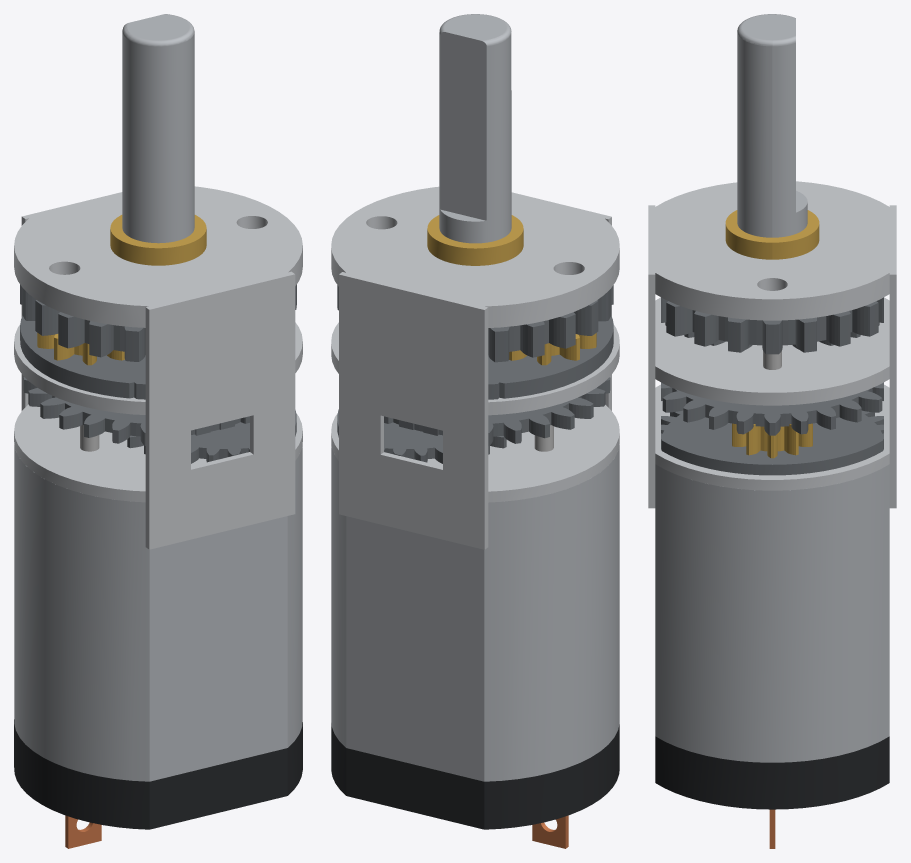
Rendered from n20-gearmotor.glb.
3 views of the same model, side by side, from view 1: azimuth 30°, elevation 25°; view 2: azimuth 150°, elevation 25°; view 3: azimuth 270°, elevation 25° (orthographic). The views are drawn at different scales.
Parts seen in each view (by area): view 1: can, gb_clamps, gb_plates, shaft, endcap, gear_6, gear_8, gear_4, bushing, gear_2, gear_7, term_neg; view 2: can, gb_clamps, gb_plates, shaft, endcap, gear_6, gear_8, gear_4, bushing, gear_2, gear_7, term_neg; view 3: can, gb_plates, shaft, endcap, gear_2, gear_8, gear_4, gb_clamps, bushing, gear_3.
Part boxes in pixels (<box>): can: <box>14,444,302,781</box>; gb_clamps: <box>21,192,295,549</box>; gb_plates: <box>14,186,302,502</box>; shaft: <box>122,14,194,243</box>; endcap: <box>14,719,302,829</box>; gear_6: <box>20,315,145,399</box>; gear_8: <box>20,284,296,361</box>; gear_4: <box>23,377,249,445</box>; bushing: <box>110,215,206,265</box>; gear_2: <box>127,410,296,463</box>; gear_7: <box>37,333,124,365</box>; term_neg: <box>65,815,101,848</box>; can: <box>331,444,619,781</box>; gb_clamps: <box>339,192,611,549</box>; gb_plates: <box>331,186,619,502</box>; shaft: <box>439,14,511,243</box>; endcap: <box>331,723,619,829</box>; gear_6: <box>488,316,613,399</box>; gear_8: <box>337,285,613,362</box>; gear_4: <box>384,377,610,446</box>; bushing: <box>427,215,523,265</box>; gear_2: <box>337,409,506,463</box>; gear_7: <box>509,333,596,365</box>; term_neg: <box>532,815,568,848</box>; can: <box>655,464,889,762</box>; gb_plates: <box>655,181,889,490</box>; shaft: <box>737,14,807,237</box>; endcap: <box>655,736,889,809</box>; gear_2: <box>661,410,883,475</box>; gear_8: <box>661,297,883,354</box>; gear_4: <box>661,382,883,435</box>; gb_clamps: <box>648,205,896,508</box>; bushing: <box>725,210,819,259</box>; gear_3: <box>732,423,812,458</box>.
Size of the model in its own units: 0.012 by 0.0366 by 0.0106.
